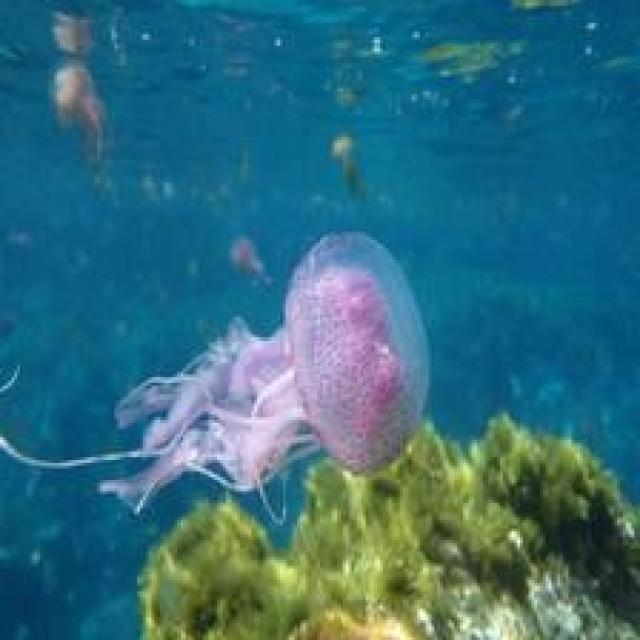Jellyfish: (0, 226, 431, 523)
